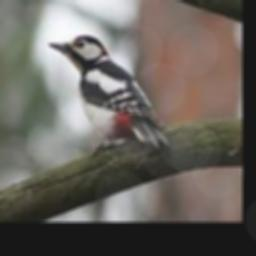Woodpecker: (47, 36, 169, 156)
